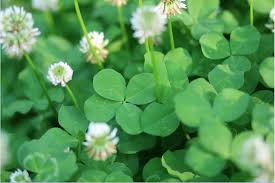4-clover: (85, 68, 160, 135)
